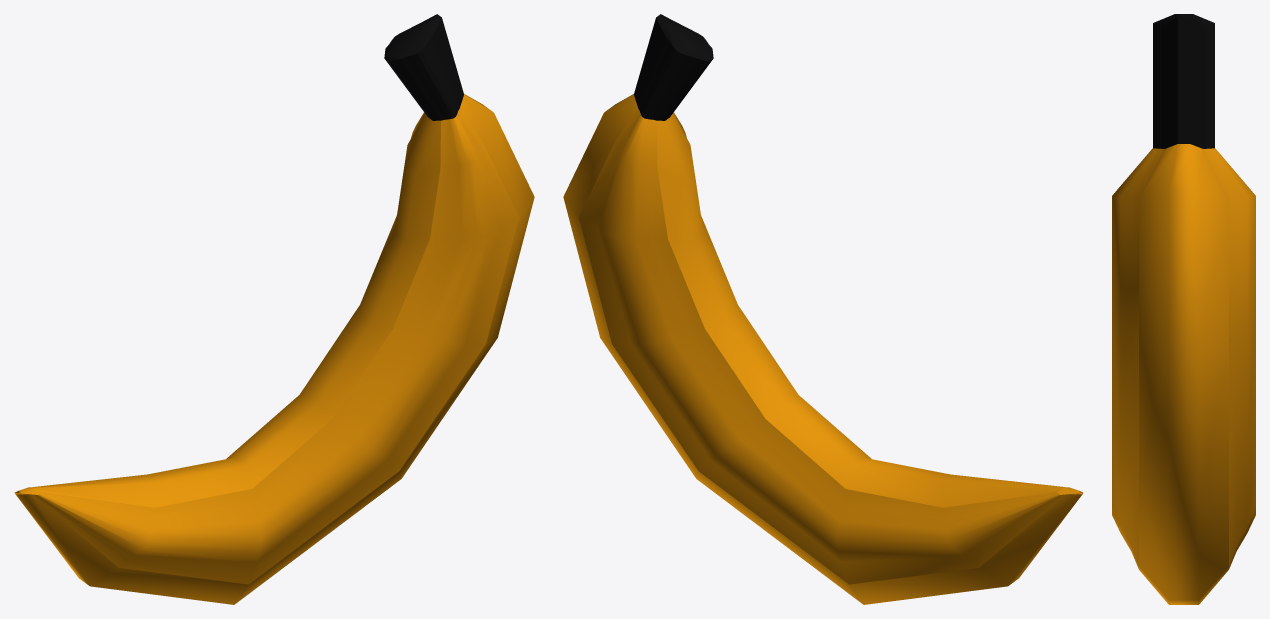
File: banana.FBX
3 views of the same model, side by side, from view 1: azimuth 30°, elevation 25°; view 2: azimuth 150°, elevation 25°; view 3: azimuth 270°, elevation 25° (orthographic). The views are drawn at different scales.
Parts seen in each view (by area): view 1: Box001; view 2: Box001; view 3: Box001.
Part boxes in pixels (box(x1,y1,x2,y2)): Box001: box(14, 14, 534, 604); Box001: box(563, 14, 1083, 604); Box001: box(1112, 14, 1255, 604).
Bounding box in the file's own units: 20.33 × 20.18 × 3.61.
